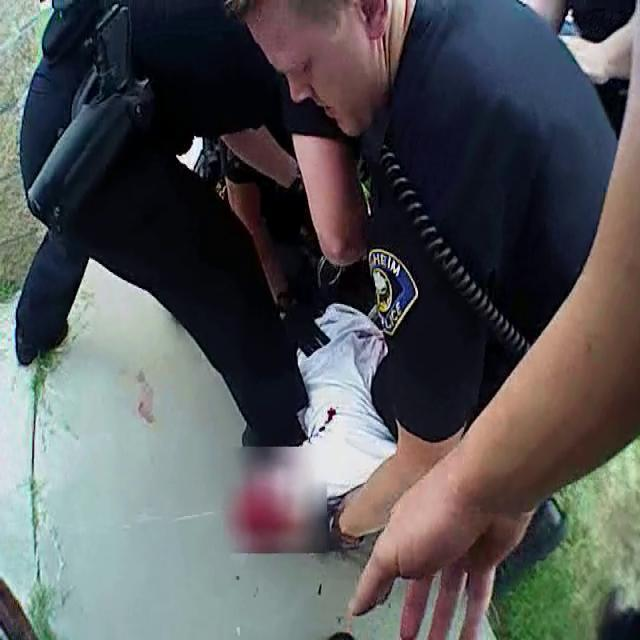gun: (20, 0, 169, 246)
